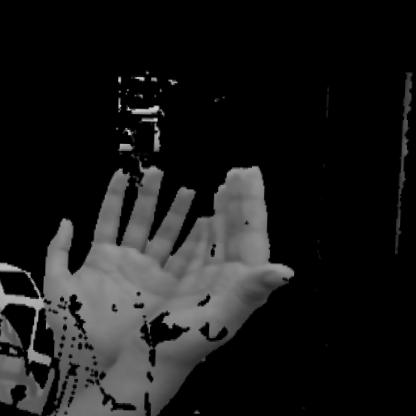dua: (20, 140, 312, 415)
